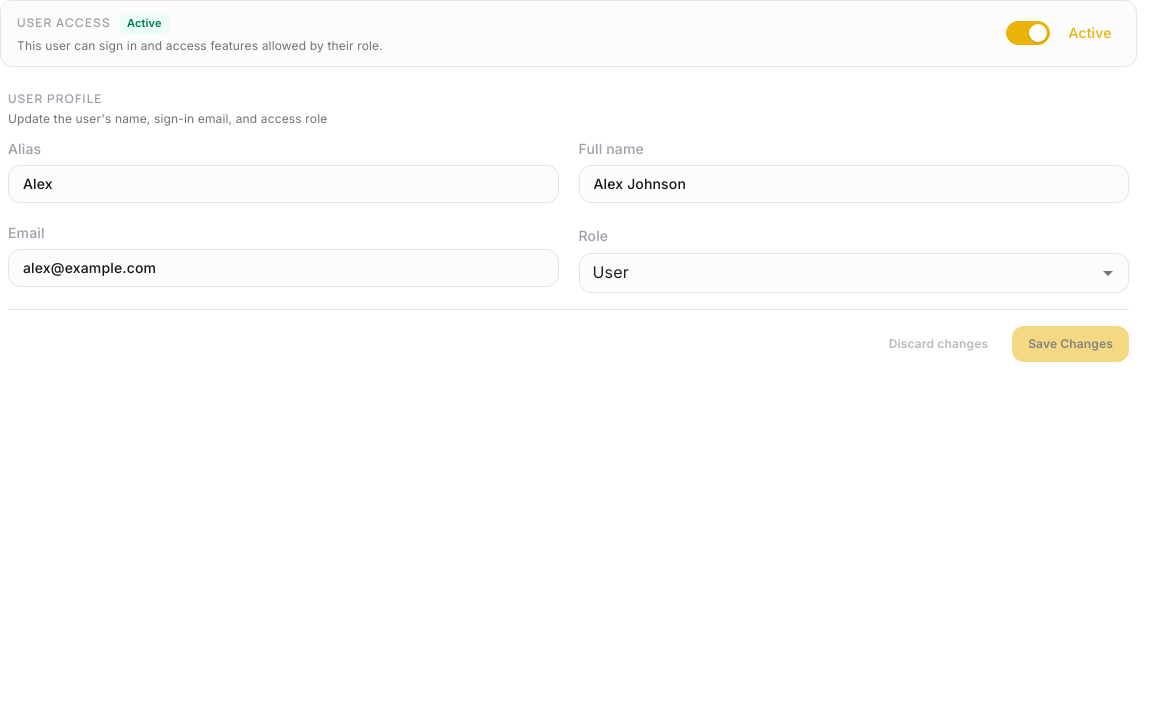
Test: EditUserForm › submits normalized values with the expected profile version
Replace the text in the field labelled "Alias" with "  Alex J  " at (283, 184), box [8,164,558,202]
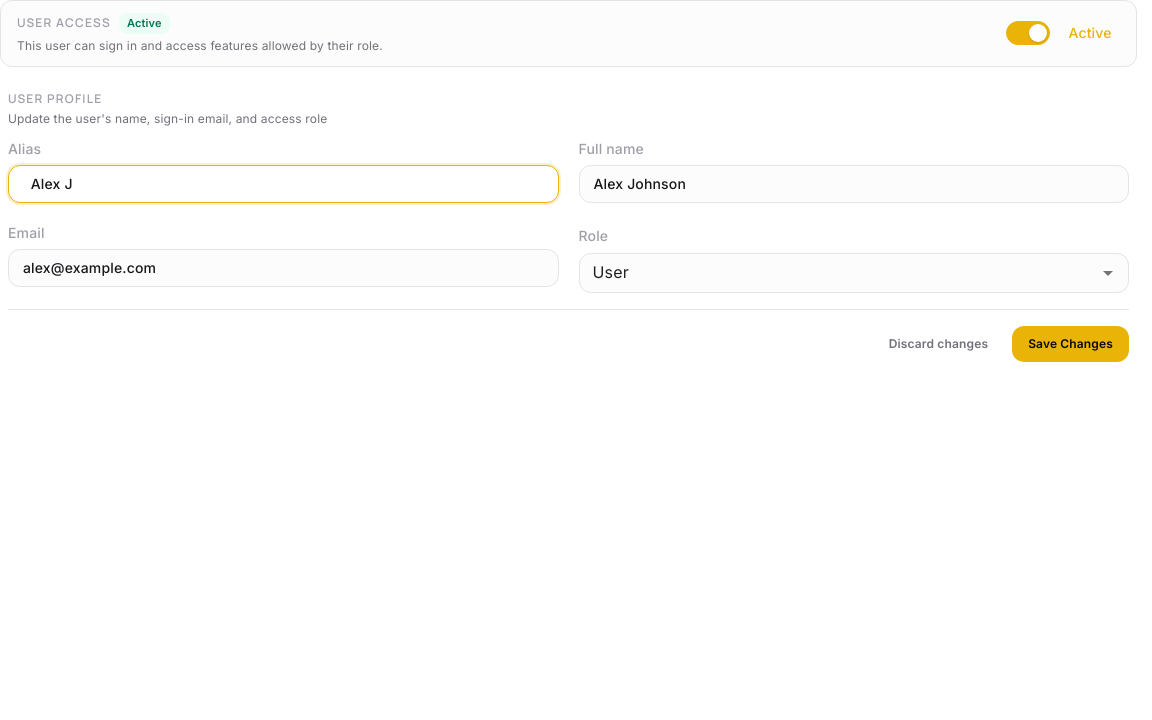
Click the button "Save Changes" at (1071, 344), box [1012,326,1129,362]
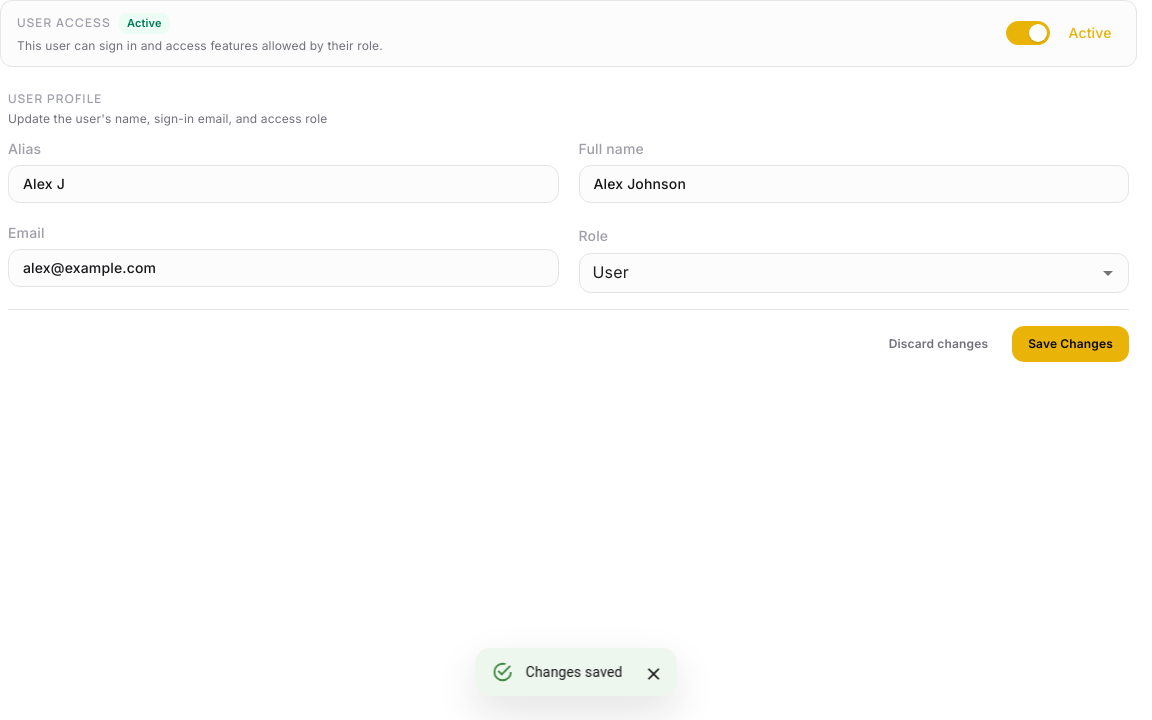
Now the text "Changes saved" is shown, box [526,664,622,680]
